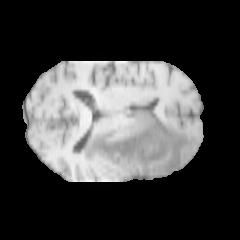glioma: (83, 112, 192, 172)
